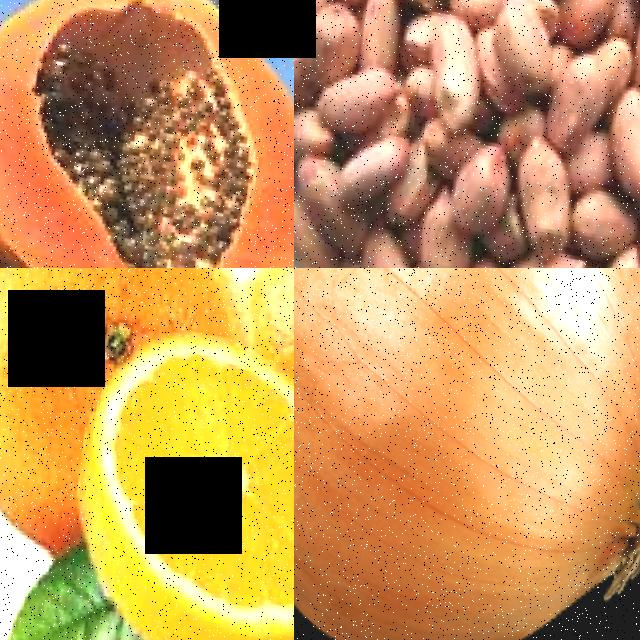onion: (294, 268, 640, 640)
orange: (64, 321, 294, 640), (0, 268, 131, 565), (0, 268, 258, 359)
pawpaw: (0, 0, 294, 268)
peanuts: (505, 135, 581, 259), (416, 3, 487, 129), (542, 42, 614, 151), (486, 0, 558, 91), (335, 125, 412, 209), (315, 59, 397, 137), (452, 131, 514, 233), (296, 0, 363, 85), (567, 179, 640, 257), (598, 81, 640, 203), (415, 185, 472, 268), (504, 243, 584, 268), (590, 236, 640, 268)
